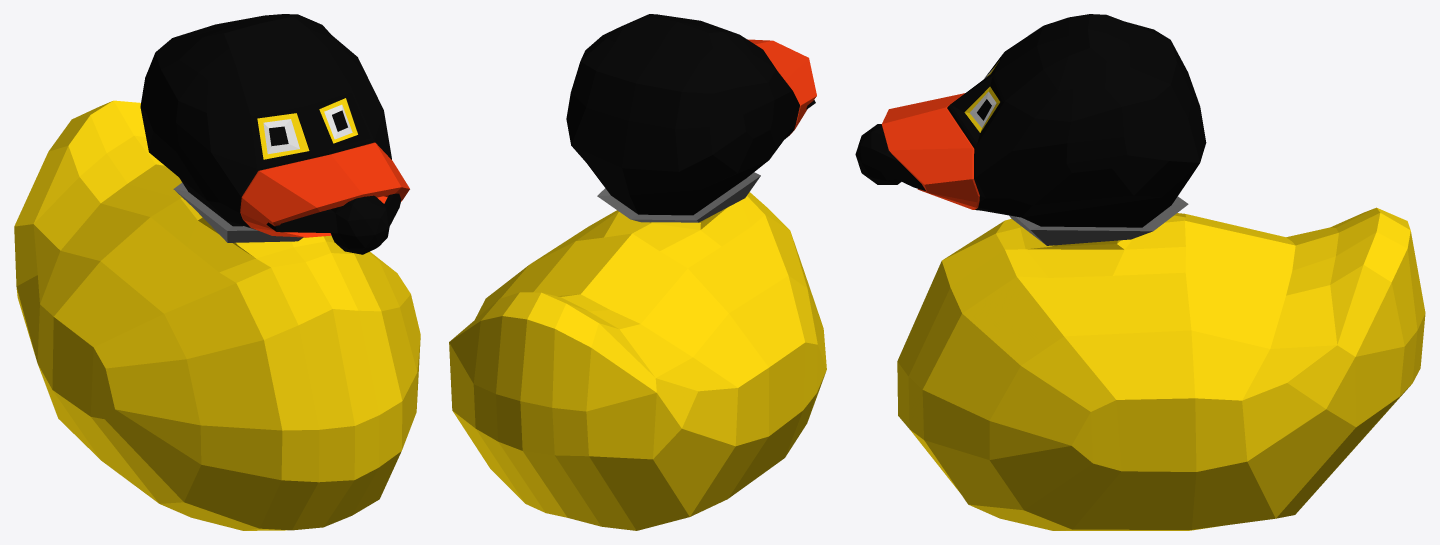
The model's file is G_Duck.glb.
3 renders of one model, left to right at view 1: azimuth 30°, elevation 25°; view 2: azimuth 150°, elevation 25°; view 3: azimuth 270°, elevation 25°, orthographic. The views are drawn at different scales.
Parts seen in each view (by area): view 1: Duck; view 2: Duck; view 3: Duck.
Boxes of the visible parts, <box> form: Duck: <box>14,14,420,530</box>; Duck: <box>449,14,826,530</box>; Duck: <box>855,14,1425,530</box>.
Size of the model in its own units: 2.04 by 2.93 by 3.28.
